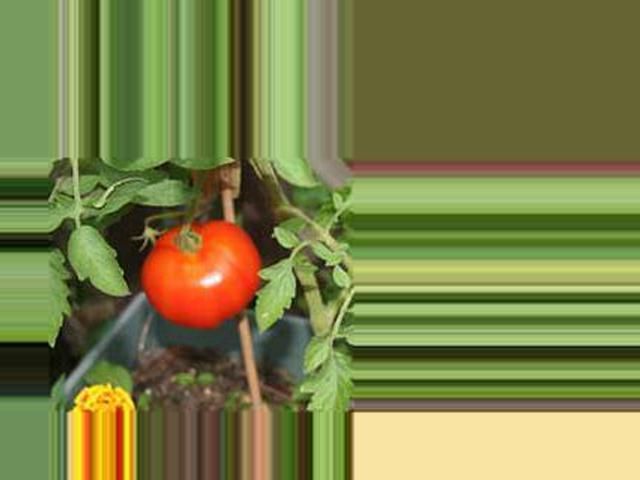tomato: (140, 219, 263, 327)
